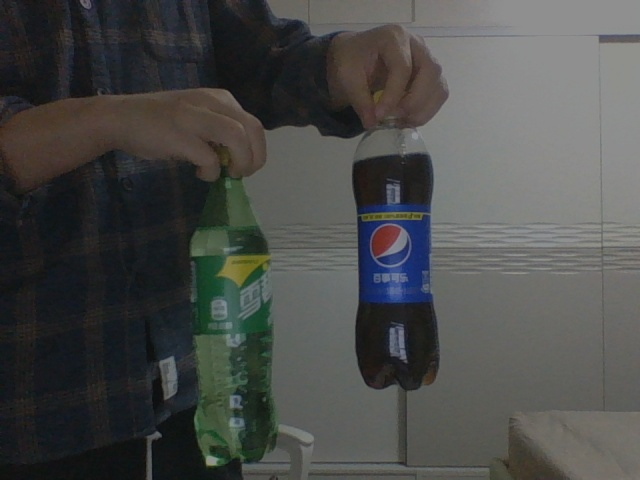Cola: (350, 90, 440, 390)
Sprite: (188, 142, 280, 466)
